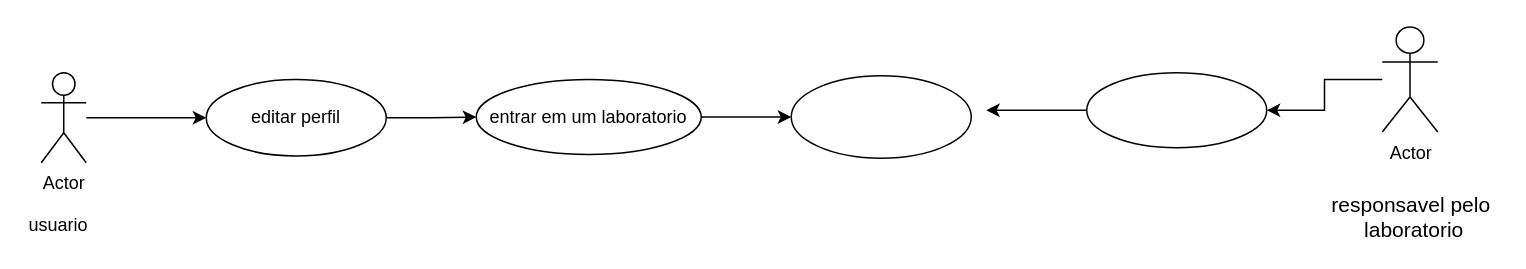
Image size: 1526x269. Some labels were removed from this diagram. The shapes that lost their labels are listed below. From the top down, each one's centre as x and y in pixels, then its label:
At point (880, 116): "solicitação".
At point (1176, 109): "autorizacao".
